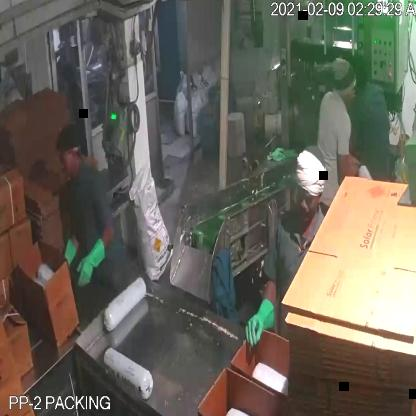glove: (242, 296, 278, 351), (74, 233, 109, 286), (58, 234, 77, 276)
no_glove: (336, 150, 364, 189)
